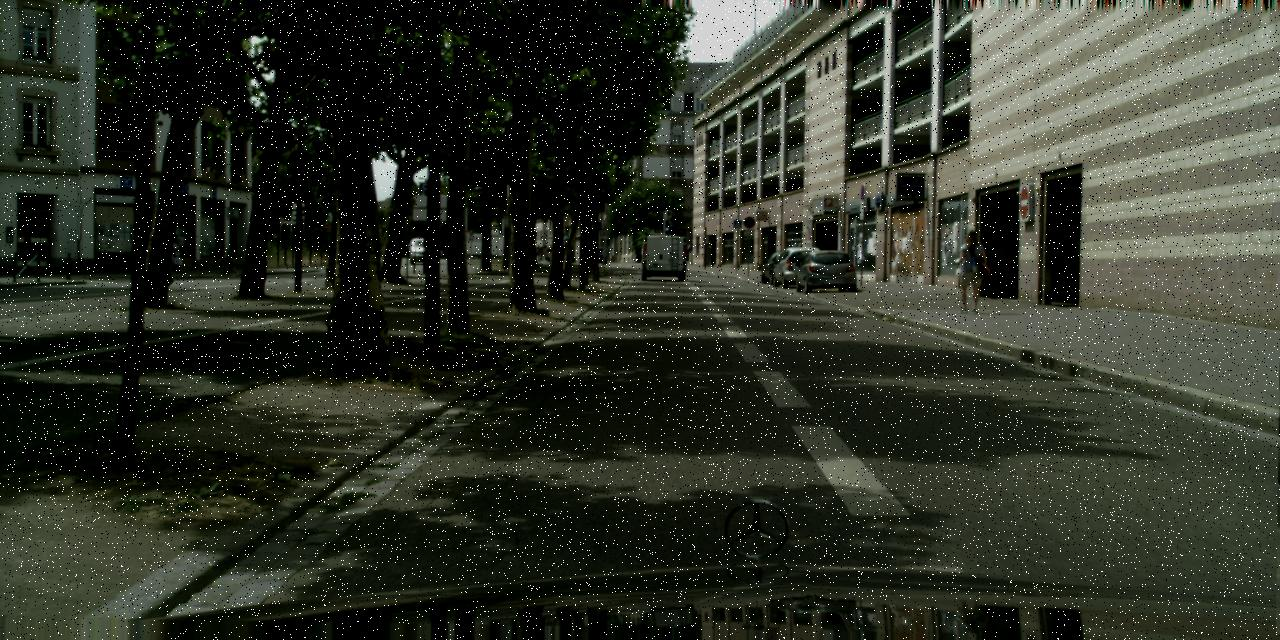ped: (953, 230, 987, 314), (171, 236, 185, 272)
